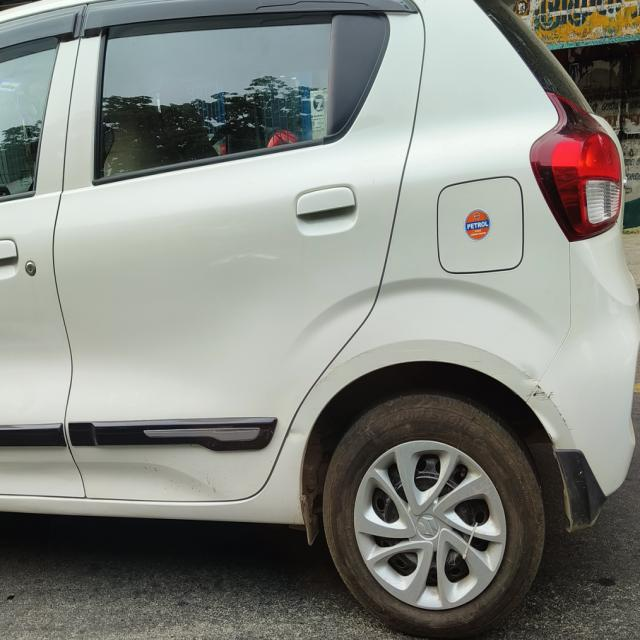scratch: (531, 363, 584, 444), (207, 243, 286, 274), (282, 426, 305, 443)
